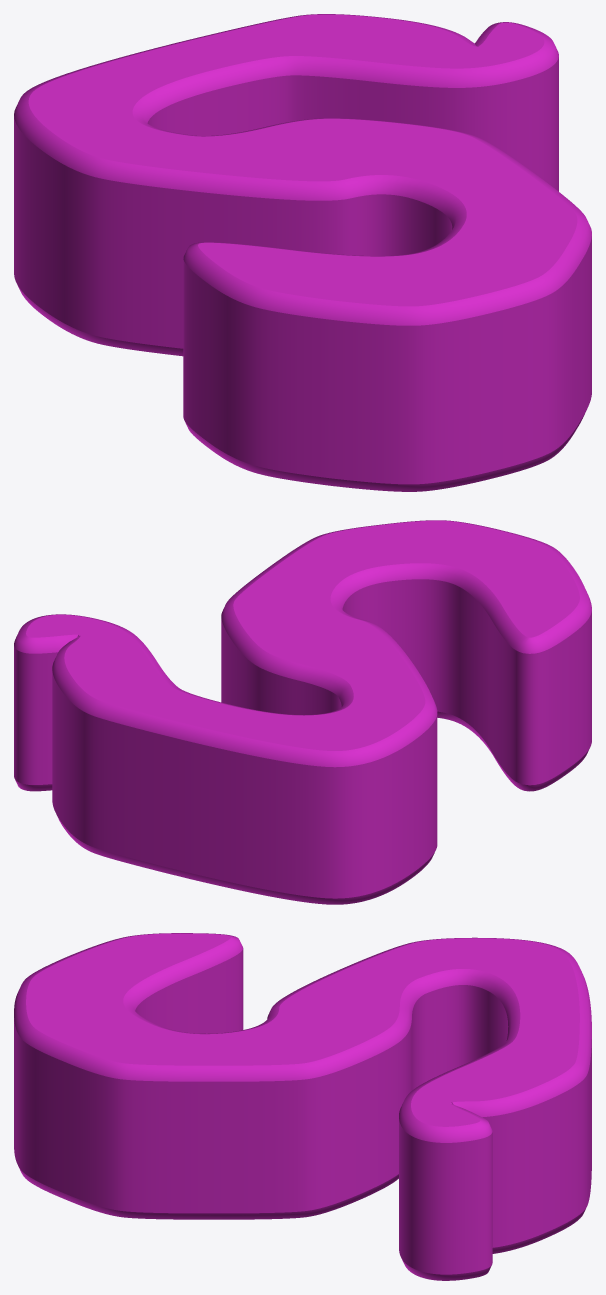
File: Letter_s_Small.fbx
3 views of the same model, one above another, from view 1: azimuth 30°, elevation 25°; view 2: azimuth 150°, elevation 25°; view 3: azimuth 270°, elevation 25° (orthographic). The views are drawn at different scales.
Visible parts, largest first — view 1: Letter_s; view 2: Letter_s; view 3: Letter_s.
Boxes of the visible parts, box(x1,y1,x2,y2) form: Letter_s: box(14, 14, 591, 491); Letter_s: box(14, 520, 591, 904); Letter_s: box(14, 933, 591, 1280).
Bounding box in the file's own units: 0.398 × 0.14 × 0.4774.
